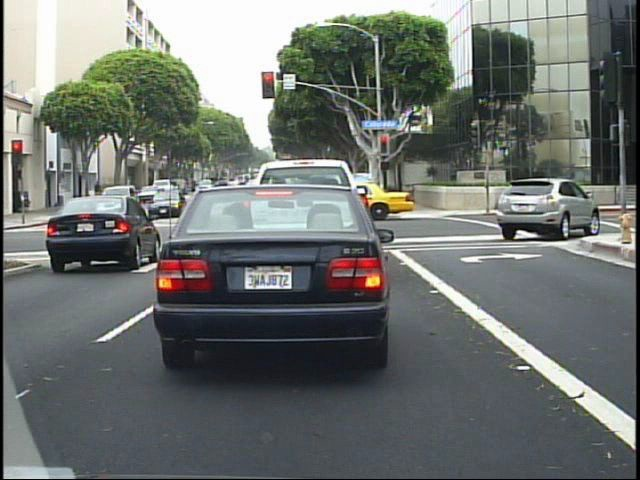person: (91, 178, 107, 212)
